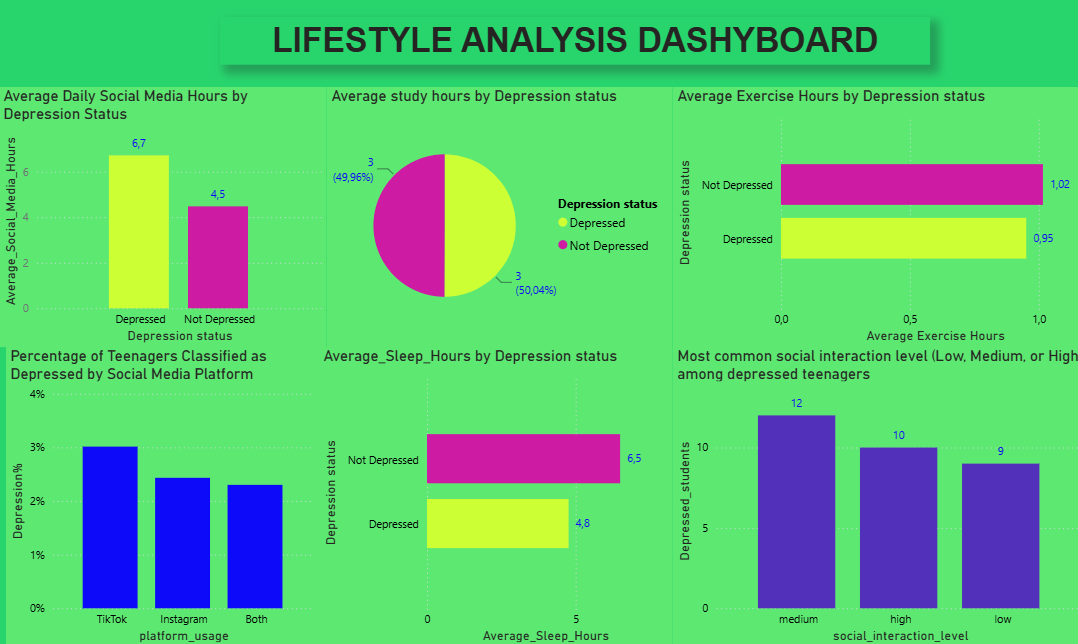

What the dashboard file says about the page in this screenshot:
{"tool":"powerbi","page":{"name":"Lifestyle Analysis","canvas":[1280,720],"ordinal":1},"visuals":[{"type":"clusteredColumnChart","title":"Average Daily Social Media Hours by Depression Status","fields":{"Y":["Teen_Mental_Health_Dataset.Average_Social_Media_Hours"],"Category":["Teen_Mental_Health_Dataset.Depression Text status "]},"box":[0,97.8,364.4,288.9],"z":0},{"type":"clusteredColumnChart","title":"Percentage of Teenagers Classified as Depressed by Social Media Platform","fields":{"Category":["Teen_Mental_Health_Dataset.platform_usage"],"Y":["Teen_Mental_Health_Dataset.Depression%"]},"box":[7.8,386.7,347.8,333.3],"z":1000},{"type":"barChart","fields":{"Category":["Teen_Mental_Health_Dataset.Depression status"],"Y":["Teen_Mental_Health_Dataset.Average_Sleep_Hours"]},"box":[355.6,386.7,393.3,333.3],"z":2000},{"type":"barChart","fields":{"Category":["Teen_Mental_Health_Dataset.Depression status"],"Y":["Teen_Mental_Health_Dataset.Average Exercise Hours"]},"box":[748.9,97.8,476.7,288.9],"z":3000},{"type":"clusteredColumnChart","title":"Most common social interaction level (Low, Medium, or High) among depressed teenagers","fields":{"Category":["Teen_Mental_Health_Dataset.social_interaction_level"],"Y":["Teen_Mental_Health_Dataset.Depressed_students"]},"box":[748.9,386.7,462.2,333.3],"z":3001},{"type":"pieChart","fields":{"Y":["Teen_Mental_Health_Dataset.Average study hours"],"Category":["Teen_Mental_Health_Dataset.Depression status"]},"box":[364.4,97.8,384.4,288.9],"z":3002},{"type":"textbox","box":[245.6,20,788.9,53.3],"z":3003}]}

Visuals, with their boxes on the page's 1280x720 design canvas (x1, y1, x2, y2). These are canvas units, not pixel positions in the 1078x644 screenshot, which may show the page scaled, cropped or inside an application window:
"Average Daily Social Media Hours by Depression Status" clusteredColumnChart: <box>0,98,364,387</box>
"Percentage of Teenagers Classified as Depressed by Social Media Platform" clusteredColumnChart: <box>8,387,356,720</box>
barChart - Teen_Mental_Health_Dataset.Depression status x Teen_Mental_Health_Dataset.Average_Sleep_Hours: <box>356,387,749,720</box>
barChart - Teen_Mental_Health_Dataset.Depression status x Teen_Mental_Health_Dataset.Average Exercise Hours: <box>749,98,1226,387</box>
"Most common social interaction level (Low, Medium, or High) among depressed teenagers" clusteredColumnChart: <box>749,387,1211,720</box>
pieChart - Teen_Mental_Health_Dataset.Average study hours x Teen_Mental_Health_Dataset.Depression status: <box>364,98,749,387</box>
textbox: <box>246,20,1034,73</box>
